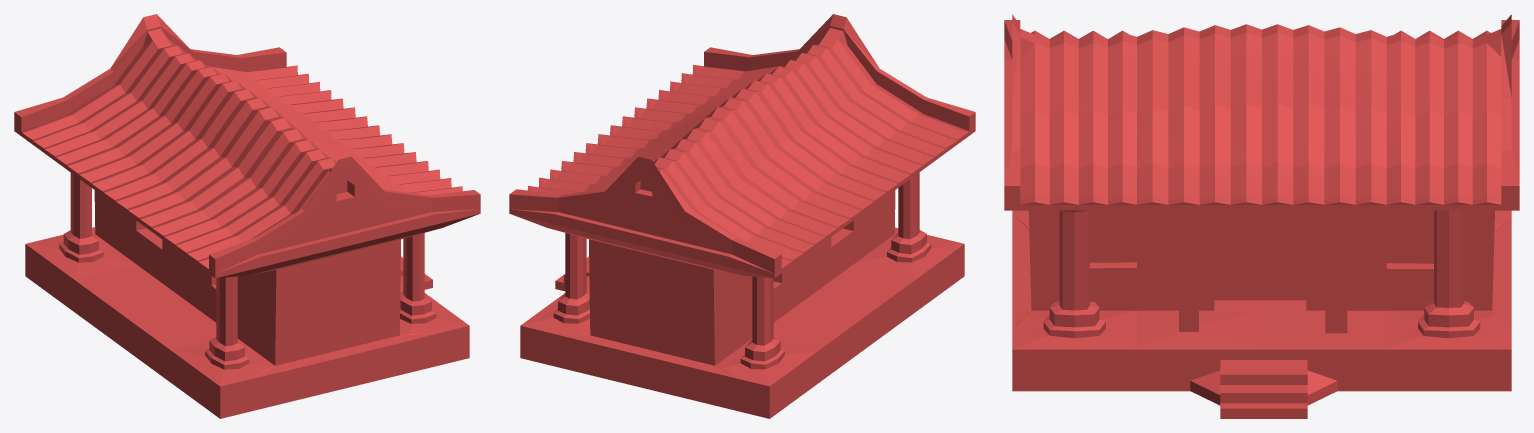
The model's file is siheyuan2.dae.
The picture shows the model from 3 angles, left to right: view 1: azimuth 30°, elevation 25°; view 2: azimuth 150°, elevation 25°; view 3: azimuth 270°, elevation 25°; orthographic projection. The views are drawn at different scales.
Parts seen in each view (by area): view 1: Cube; view 2: Cube; view 3: Cube.
Boxes of the visible parts, x1,y1,x2,y2 form: Cube: (14, 14, 480, 418); Cube: (509, 14, 975, 418); Cube: (1004, 14, 1519, 418).
Size of the model in its own units: 9.91 by 11.26 by 7.11.
